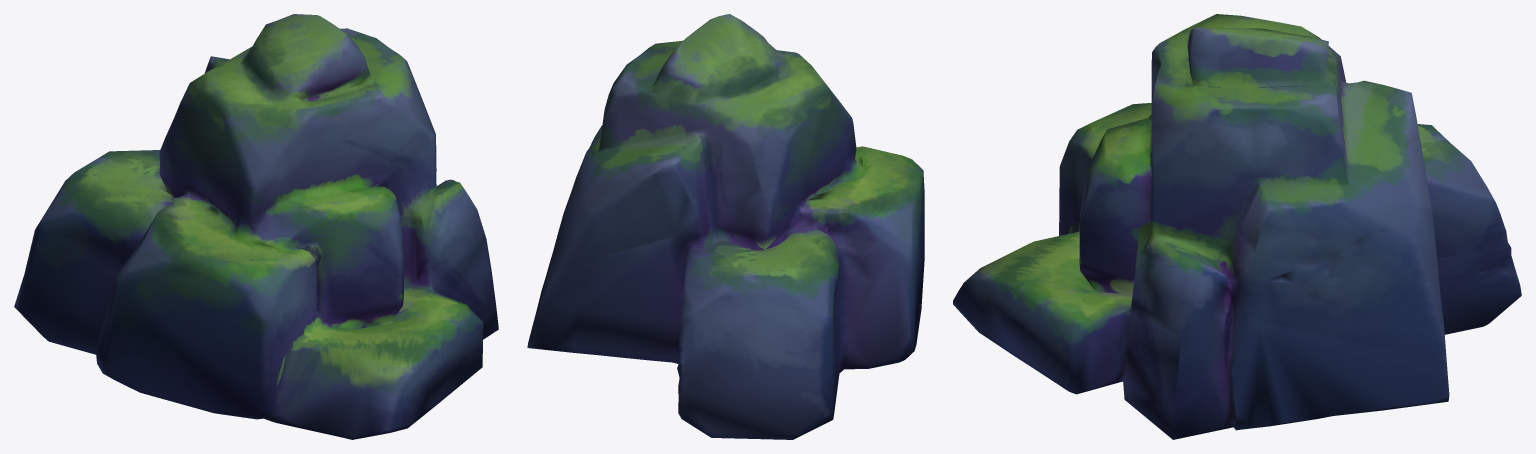
Rendered from rOCK.glb.
3 renders of one model, left to right at view 1: azimuth 30°, elevation 25°; view 2: azimuth 150°, elevation 25°; view 3: azimuth 270°, elevation 25°, orthographic. The views are drawn at different scales.
Visible parts, largest first — view 1: Rock LP.001; view 2: Rock LP.001; view 3: Rock LP.001.
Boxes of the visible parts, x1=… form: Rock LP.001: x1=14, y1=14, x2=498, y2=439; Rock LP.001: x1=527, y1=14, x2=924, y2=439; Rock LP.001: x1=953, y1=14, x2=1521, y2=439.
Size of the model in its own units: 3.91 by 3.28 by 4.92.
1 material, 1 textured.
